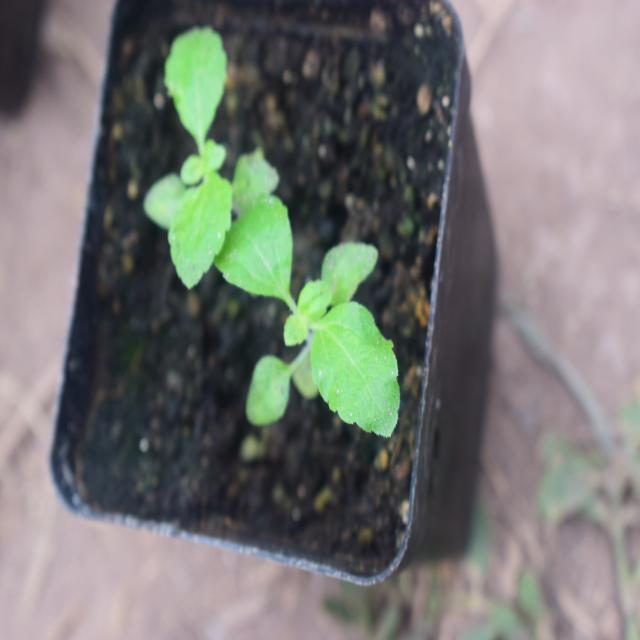billygoat_weed: (248, 196, 404, 440), (122, 0, 250, 296)
